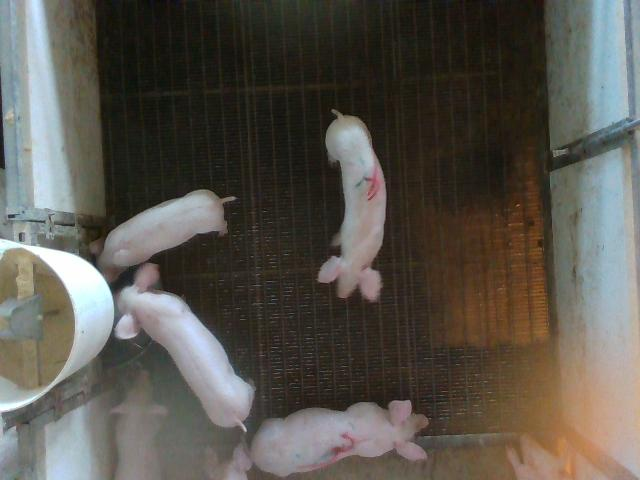pig-3: (250, 401, 429, 476)
pig-4: (318, 110, 385, 301)
